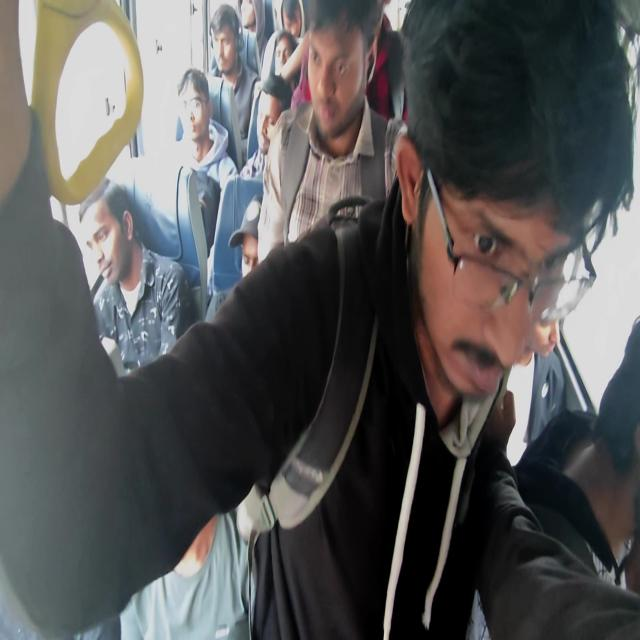person: (395, 43, 598, 399), (105, 308, 267, 618), (598, 343, 640, 569), (194, 0, 251, 100), (315, 16, 370, 118), (237, 209, 289, 311), (89, 195, 158, 268), (173, 83, 217, 156), (258, 87, 284, 152), (268, 39, 298, 90), (274, 9, 302, 52), (235, 0, 257, 33)
